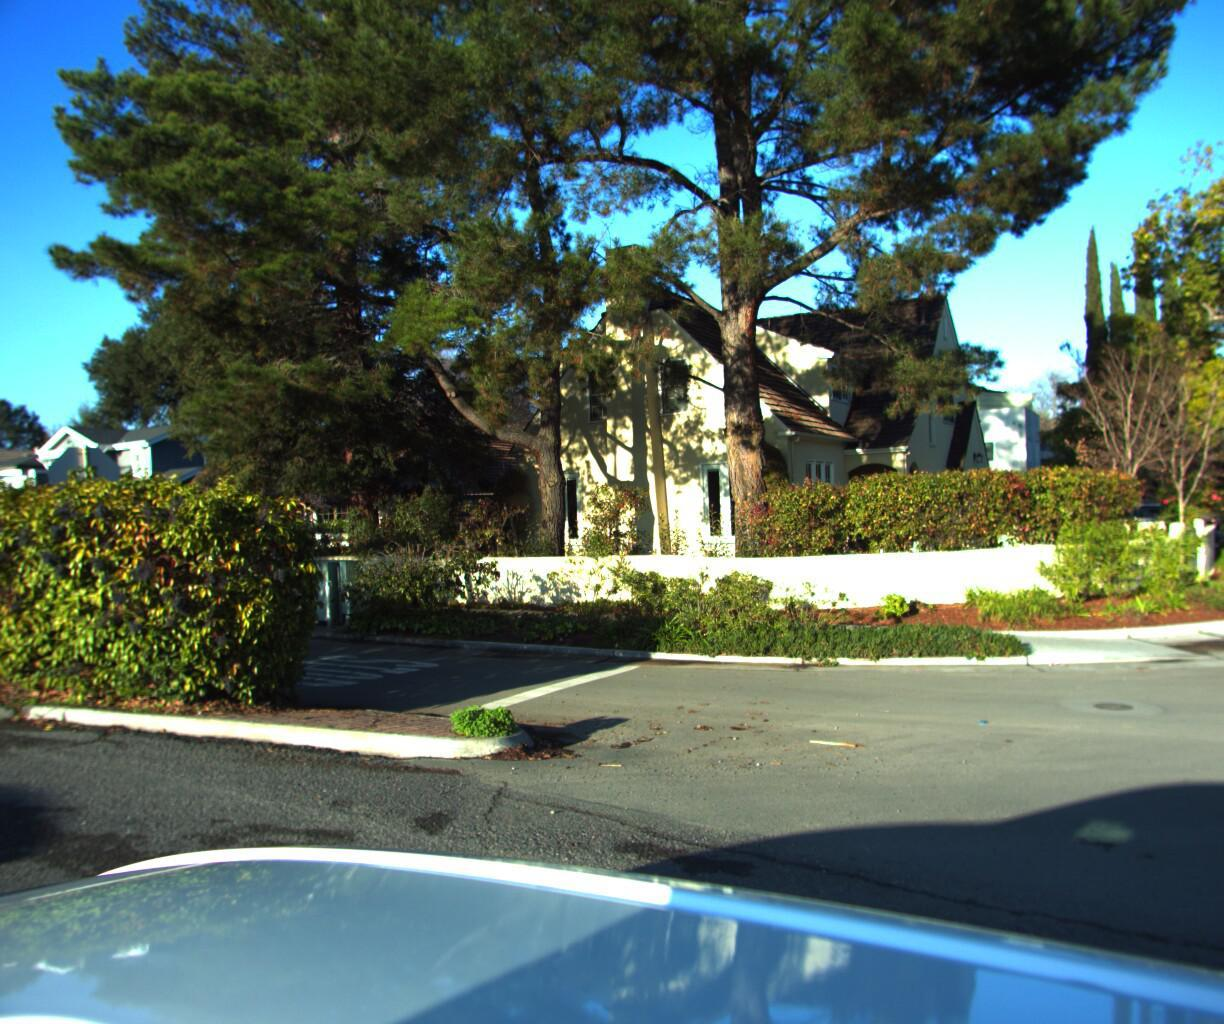car: (1085, 493, 1223, 551)
